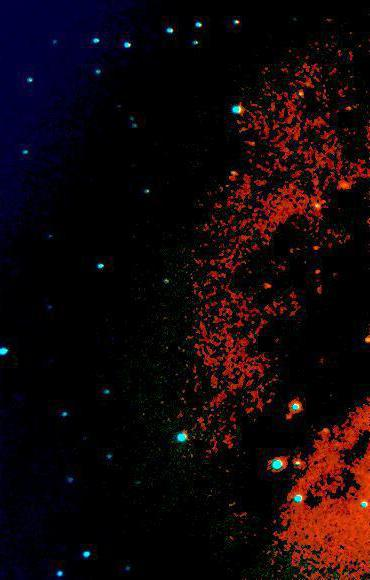star: (274, 401, 304, 431)
